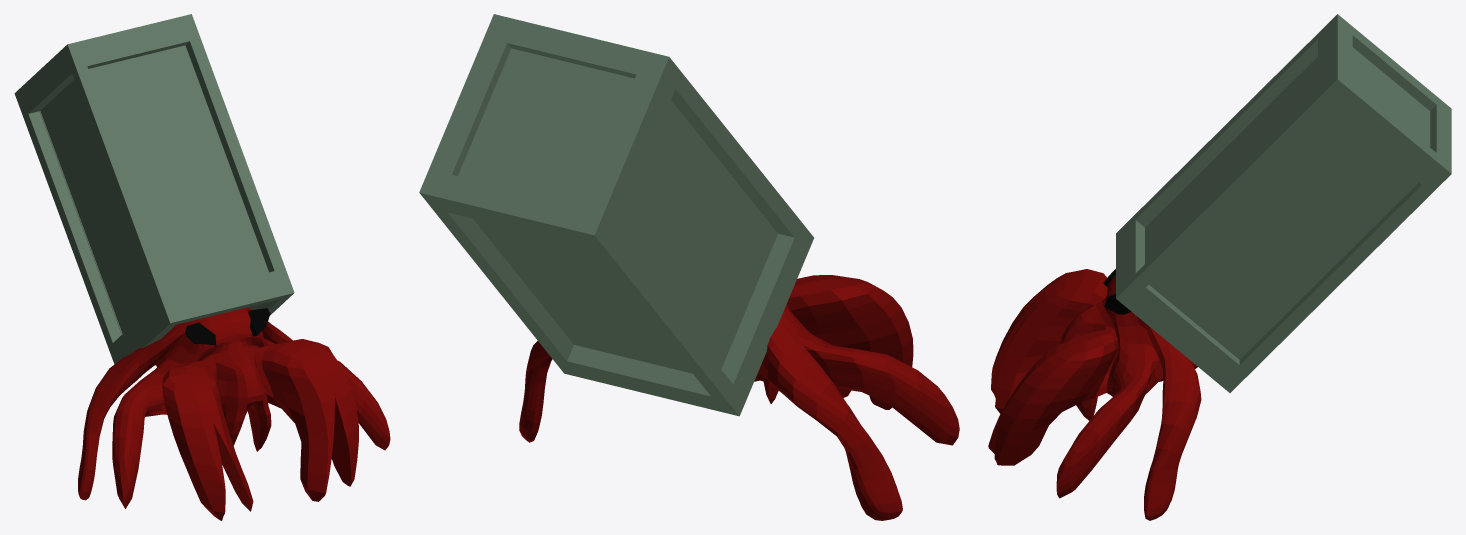
Rendered from evil hermit crab.fbx.
3 renders of one model, left to right at view 1: azimuth 30°, elevation 25°; view 2: azimuth 150°, elevation 25°; view 3: azimuth 270°, elevation 25°, orthographic. The views are drawn at different scales.
Visible parts, largest first — view 1: container, evil crab, right eye.001, left eye.001; view 2: container, evil crab; view 3: container, evil crab.
Boxes of the visible parts, x1,y1,x2,y2 form: container: (14,14,294,364); evil crab: (78,307,390,520); right eye.001: (185,322,216,345); left eye.001: (248,308,270,336); container: (419,14,813,416); evil crab: (519,275,959,520); container: (1116,14,1451,392); evil crab: (988,269,1201,520).
Bounding box in the file's own units: 498 × 670 × 688.
